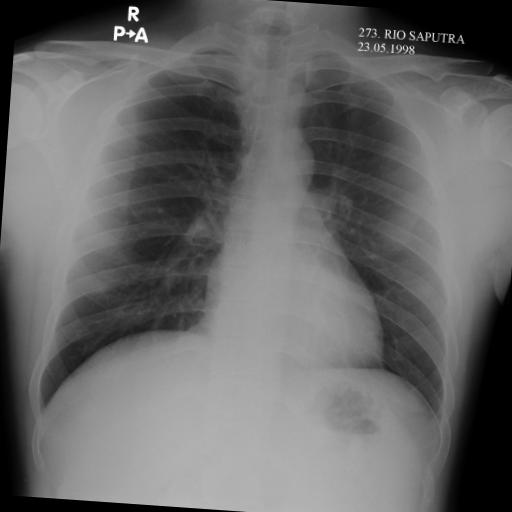normal: (26, 14, 477, 449)
